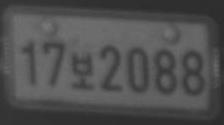0: (126, 47, 149, 93)
1: (19, 42, 40, 84)
2: (99, 45, 123, 92)
7: (42, 42, 65, 85)
8: (181, 49, 205, 96), (154, 48, 177, 94)
보: (71, 53, 92, 89)
